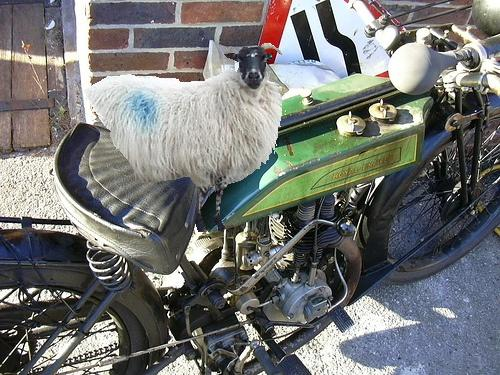tampered: (85, 44, 282, 232)
